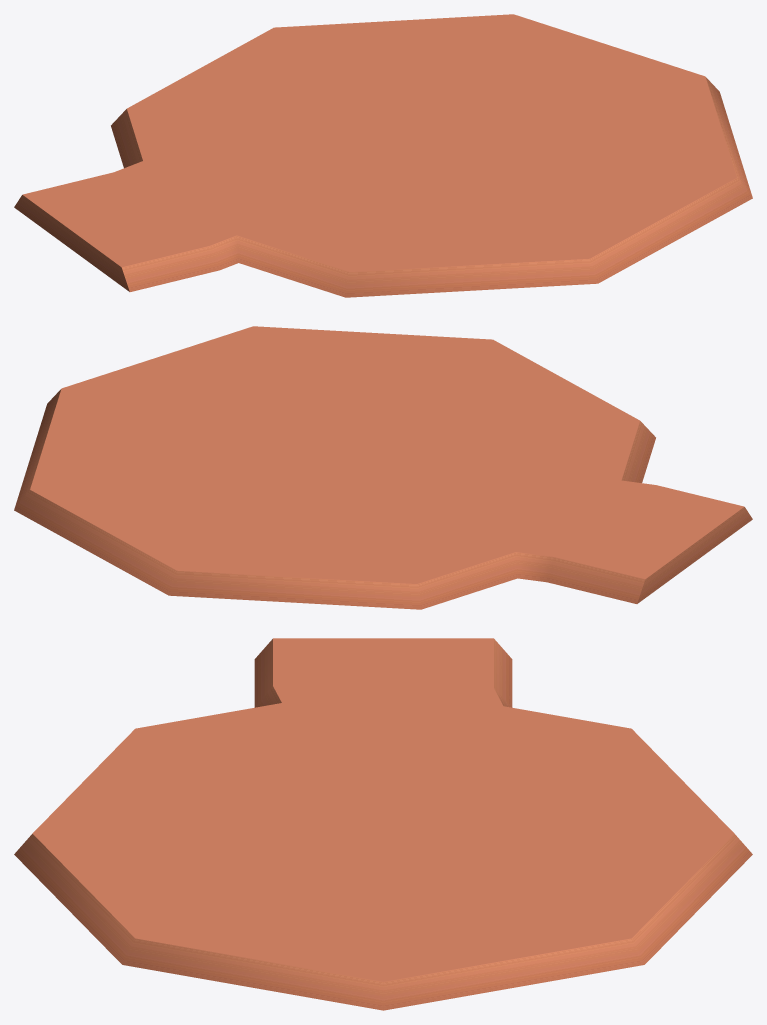
Rendered from path-square-end.glb.
The picture shows the model from 3 angles, top to bottom: view 1: azimuth 30°, elevation 25°; view 2: azimuth 150°, elevation 25°; view 3: azimuth 270°, elevation 25°; orthographic projection. The views are drawn at different scales.
Parts seen in each view (by area): view 1: path-square-end; view 2: path-square-end; view 3: path-square-end.
Boxes of the visible parts, x1,y1,x2,y2 form: path-square-end: [14, 14, 752, 297]; path-square-end: [14, 326, 752, 609]; path-square-end: [14, 638, 752, 1010].
Size of the model in its own units: 0.9 by 0.025 by 0.8.
Materials: 1 (1 with a texture image).
